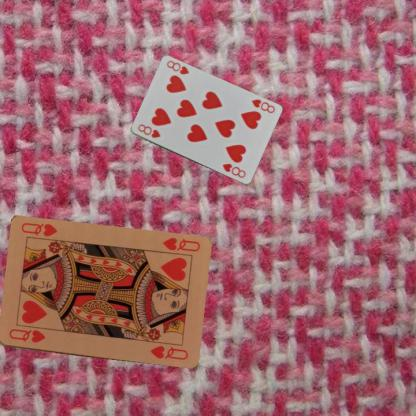8h: (135, 122, 162, 140), (249, 96, 276, 114)
Qh: (6, 326, 47, 344), (160, 235, 201, 253)
